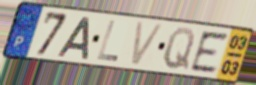7: (37, 10, 69, 58)
A: (56, 15, 91, 61)
E: (188, 30, 231, 74)
L: (95, 19, 120, 63)
Q: (161, 26, 197, 72)
V: (128, 20, 166, 68)
